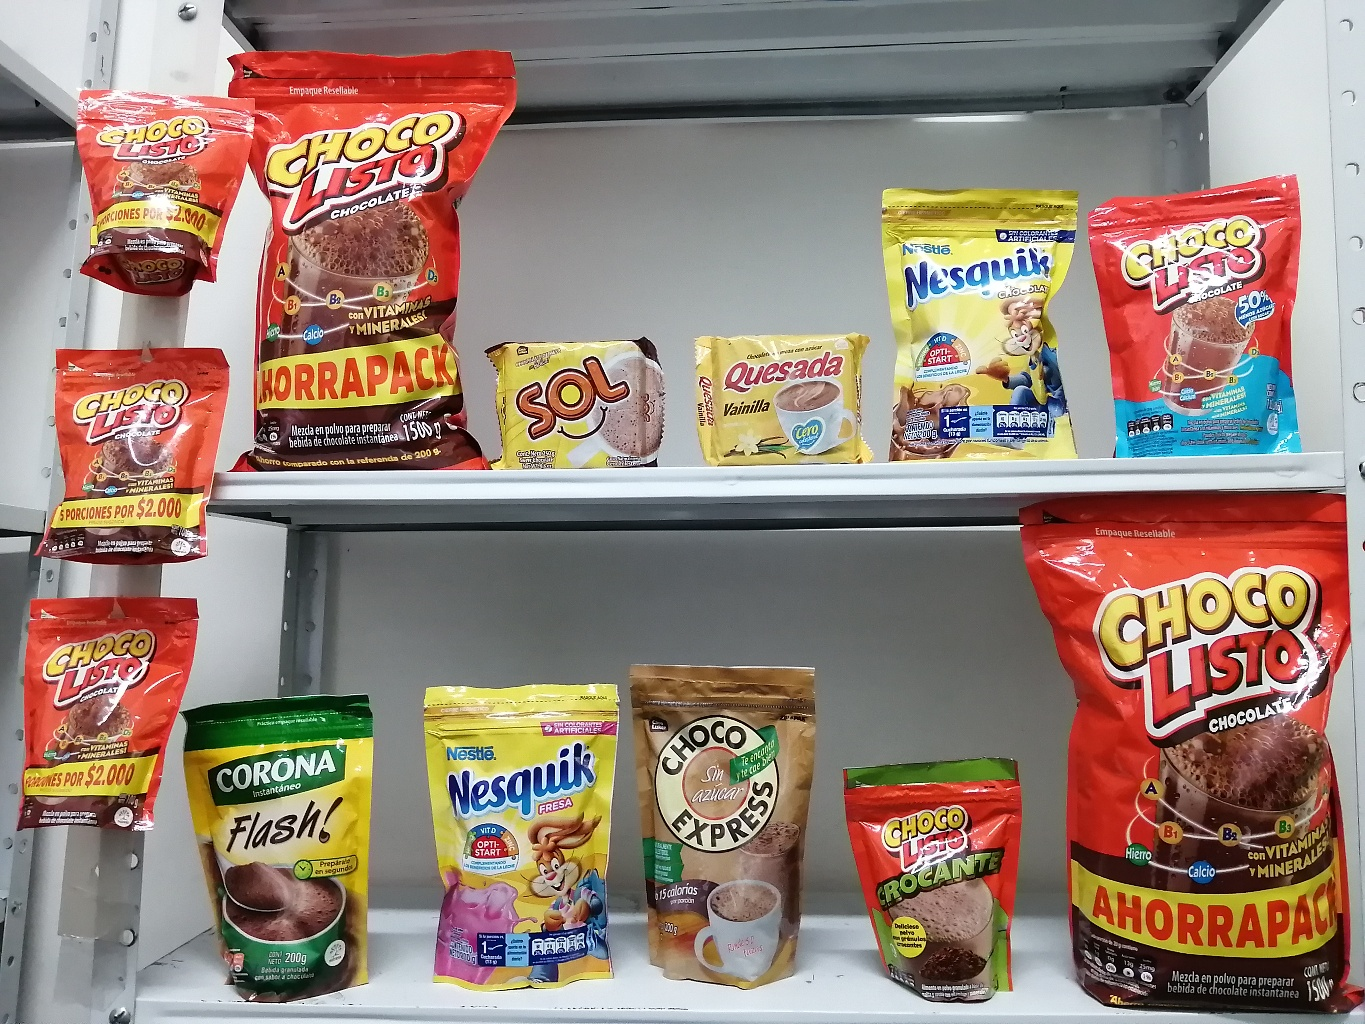COL0170102DYP10000: (825, 737, 1037, 1013)
COL0170103DYP1,500: (227, 37, 520, 470)
COL0170103DYP10000: (18, 584, 207, 847)
COL0170104DYP20000: (1092, 168, 1318, 456)
COL0170303DYP20000: (868, 175, 1085, 468)
COL0170305DYP20000: (411, 675, 630, 999)
